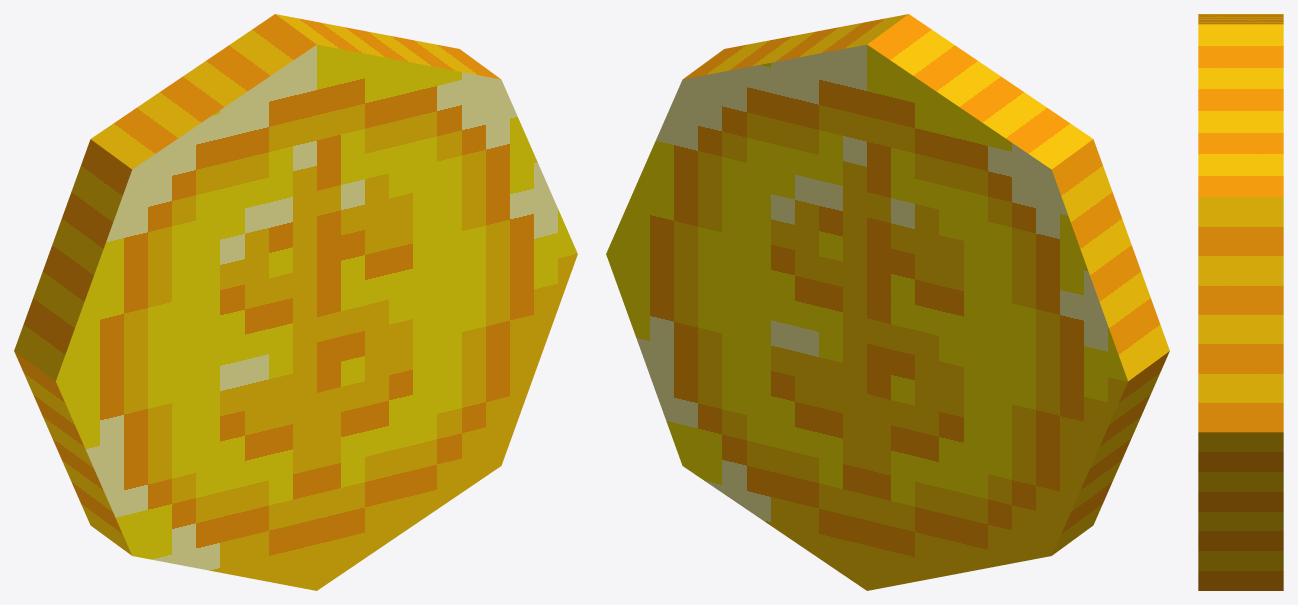
File: Coin.fbx
The picture shows the model from 3 angles, left to right: view 1: azimuth 30°, elevation 25°; view 2: azimuth 150°, elevation 25°; view 3: azimuth 270°, elevation 25°; orthographic projection.
Visible parts, largest first — view 1: cylinder; view 2: cylinder; view 3: cylinder.
Boxes of the visible parts, x1,y1,x2,y2 form: cylinder: (14,14,577,590); cylinder: (606,14,1169,590); cylinder: (1198,14,1283,590).
Bounding box in the file's own units: 2165 × 2165 × 300.
1 material, 1 textured.
